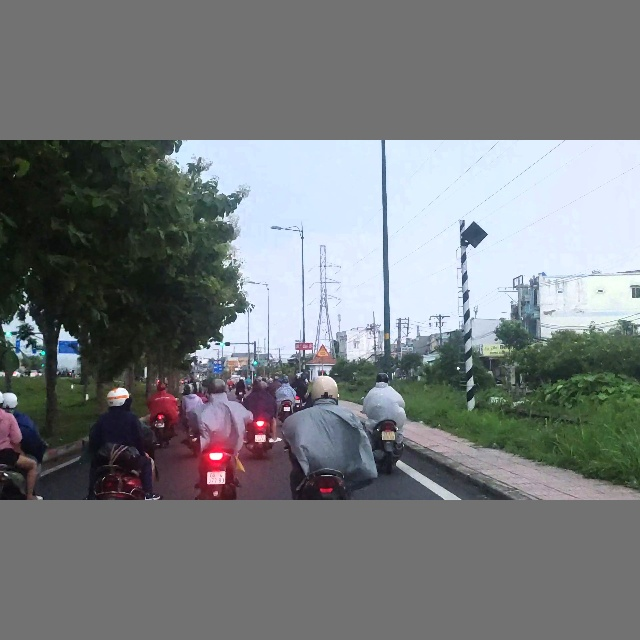W.210: (316, 343, 330, 357)
